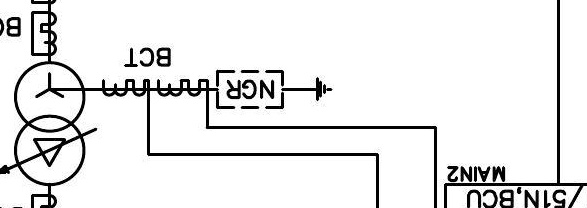11522_tx_dyn1: (13, 60, 86, 187)
NGR_future: (215, 69, 333, 110)
